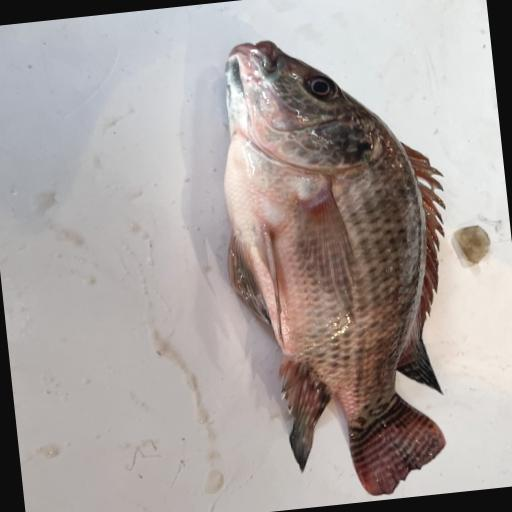Tilapia: (205, 23, 477, 509)
